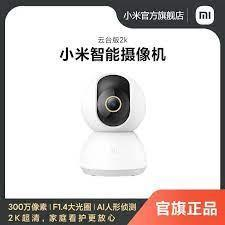maru: (77, 70, 151, 140)
